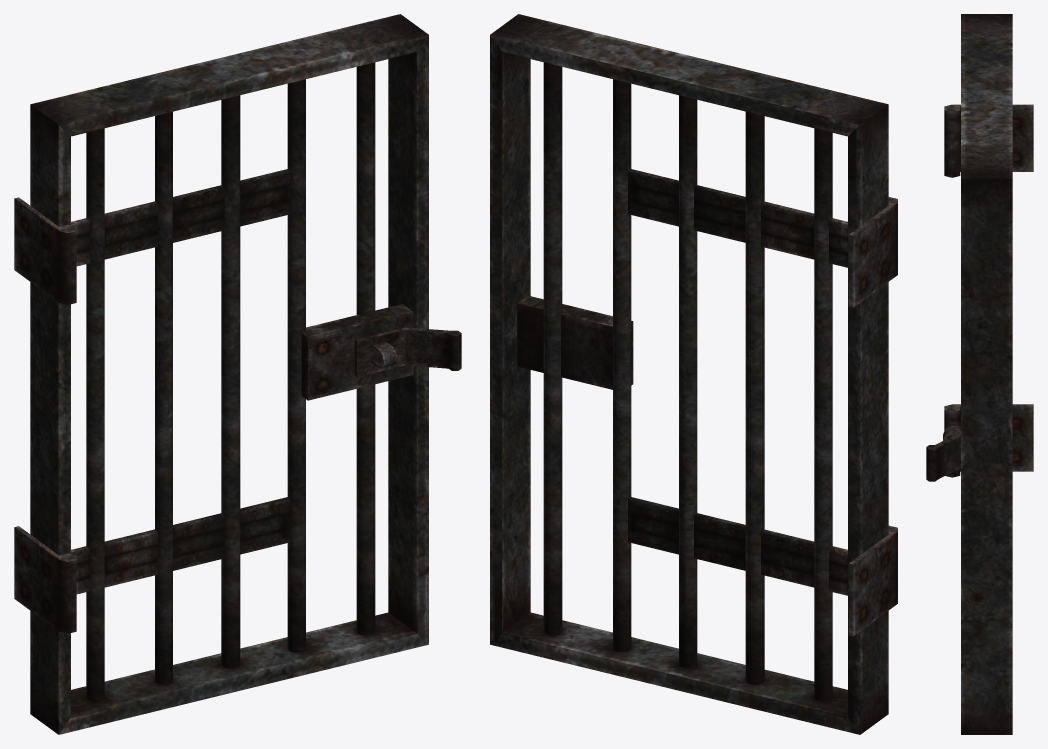
Rendered from prison_section_plain.dae.
3 renders of one model, left to right at view 1: azimuth 30°, elevation 25°; view 2: azimuth 150°, elevation 25°; view 3: azimuth 270°, elevation 25°, orthographic. The views are drawn at different scales.
Parts seen in each view (by area): view 1: door, hinge, lockholder; view 2: door, hinge; view 3: door, hinge, lockholder.
Part boxes in pixels (left/top/right/bottom): door: left=30, top=14, right=428, bottom=734; hinge: left=14, top=197, right=76, bottom=633; lockholder: left=354, top=327, right=461, bottom=376; door: left=490, top=14, right=888, bottom=734; hinge: left=848, top=197, right=897, bottom=636; door: left=943, top=14, right=1012, bottom=734; hinge: left=944, top=104, right=1033, bottom=477; lockholder: left=926, top=432, right=960, bottom=481.
Bounding box in the file's own units: 1.84 × 2.75 × 0.4814.
